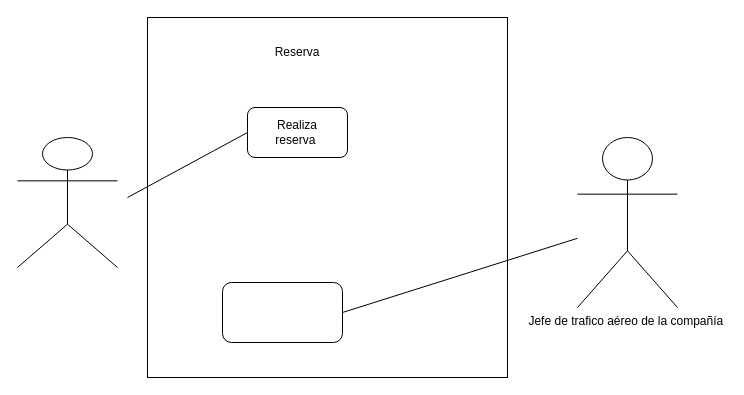
Some shapes in this 744 by 395 pixel diagram are drawn without their labels. The shapes that lost their labels are listed below. From the top down, each one's box as (x1, y1, x2, y2) in pixels, then its label:
(16, 136, 118, 268): Cliente
(222, 282, 342, 342): Asigna avión al vuelo
